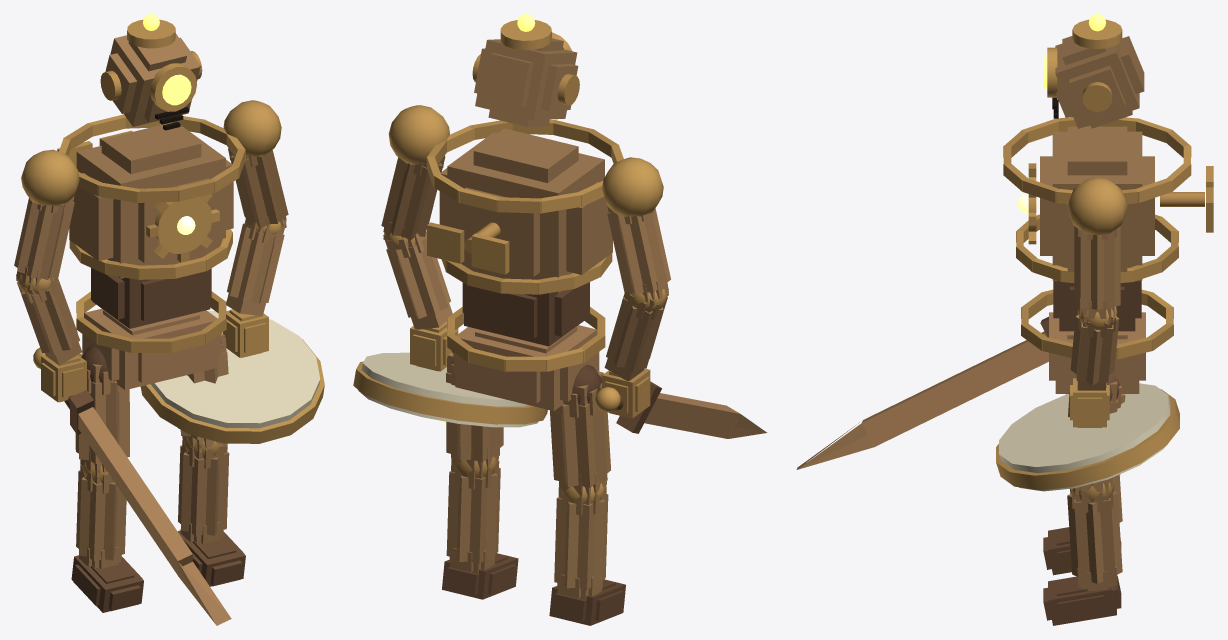
The picture shows the model from 3 angles, left to right: view 1: azimuth 30°, elevation 25°; view 2: azimuth 150°, elevation 25°; view 3: azimuth 270°, elevation 25°; orthographic projection. The views are drawn at different scales.
Parts seen in each view (by area): view 1: PracticeAutomaton; view 2: PracticeAutomaton; view 3: PracticeAutomaton.
Part boxes in pixels (x1=…): PracticeAutomaton: x1=14, y1=14, x2=324, y2=625; PracticeAutomaton: x1=353, y1=14, x2=767, y2=625; PracticeAutomaton: x1=796, y1=14, x2=1213, y2=625.
Size of the model in its own units: 0.7635 by 1.43 by 0.9353.
